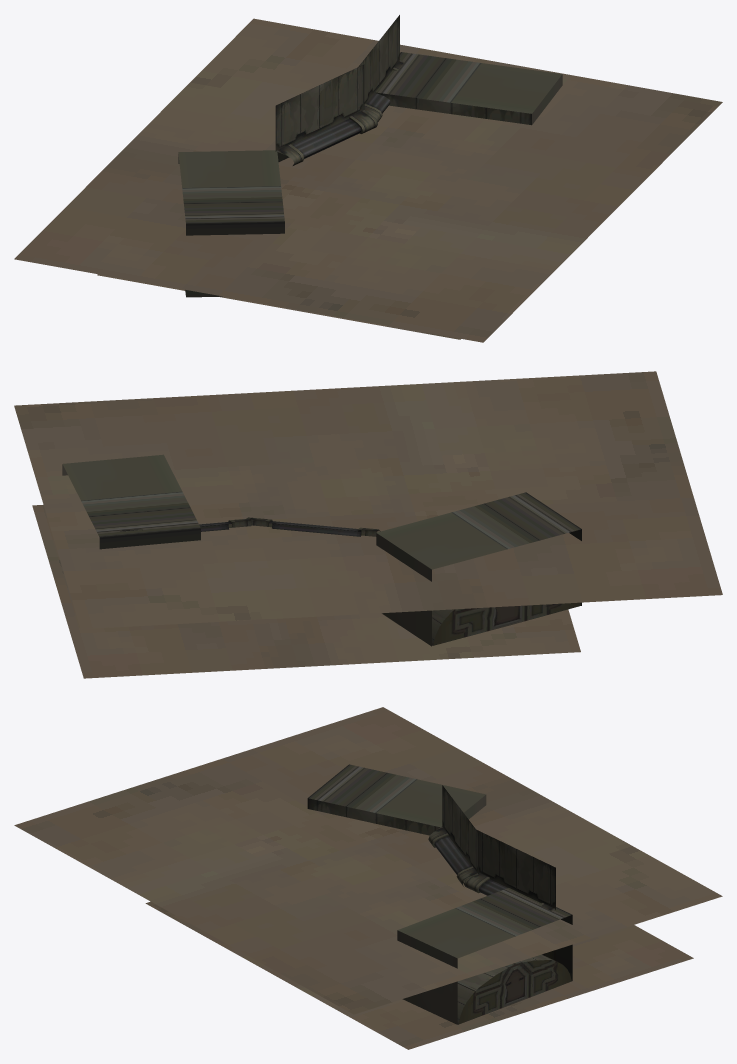
File: env_home_screen_cantina_01_pre.glb
The picture shows the model from 3 angles, top to bottom: view 1: azimuth 30°, elevation 25°; view 2: azimuth 150°, elevation 25°; view 3: azimuth 270°, elevation 25°; orthographic projection. The views are drawn at different scales.
Parts seen in each view (by area): view 1: cantina_floor_mesh (1), home_booth_01_mesh, home_booth_01_mesh (1), home_dump_wall_01_mesh, home_dump_wall_01_mesh (3), cantina_floor_mesh; view 2: cantina_floor_mesh (1), cantina_floor_mesh, home_booth_01_mesh (1), home_booth_01_mesh, home_dump_wall_01_mesh; view 3: cantina_floor_mesh (1), home_booth_01_mesh, cantina_floor_mesh, home_booth_01_mesh (1), home_dump_wall_01_mesh (3), home_dump_wall_01_mesh.
Boxes of the visible parts, bbox=[...] form: cantina_floor_mesh (1): bbox=[14, 18, 722, 342]; home_booth_01_mesh: bbox=[375, 52, 562, 125]; home_booth_01_mesh (1): bbox=[178, 150, 284, 297]; home_dump_wall_01_mesh: bbox=[275, 64, 377, 165]; home_dump_wall_01_mesh (3): bbox=[358, 15, 403, 122]; cantina_floor_mesh: bbox=[97, 274, 460, 339]; cantina_floor_mesh (1): bbox=[14, 371, 722, 629]; cantina_floor_mesh: bbox=[32, 505, 580, 678]; home_booth_01_mesh (1): bbox=[376, 492, 581, 646]; home_booth_01_mesh: bbox=[62, 454, 200, 549]; home_dump_wall_01_mesh: bbox=[246, 517, 380, 536]; cantina_floor_mesh (1): bbox=[14, 707, 722, 1014]; home_booth_01_mesh: bbox=[397, 888, 572, 1024]; cantina_floor_mesh: bbox=[145, 901, 693, 1049]; home_booth_01_mesh (1): bbox=[307, 764, 486, 835]; home_dump_wall_01_mesh (3): bbox=[464, 830, 555, 960]; home_dump_wall_01_mesh: bbox=[428, 785, 478, 886].
Size of the model in its own units: 143 by 25.12 by 139.
48 materials, 47 textured.
